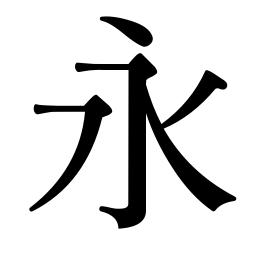D: (97, 13, 159, 48)
HSZ: (120, 51, 160, 88)
Hs: (73, 57, 108, 75)
Ne: (194, 178, 238, 214)
PNc: (148, 108, 179, 138)
PZe: (26, 188, 65, 215)
Ps: (194, 67, 230, 102)
SG: (97, 197, 152, 233)
Sm: (125, 140, 150, 171)
TPZ: (74, 92, 114, 143)
Ts: (31, 101, 55, 117)
